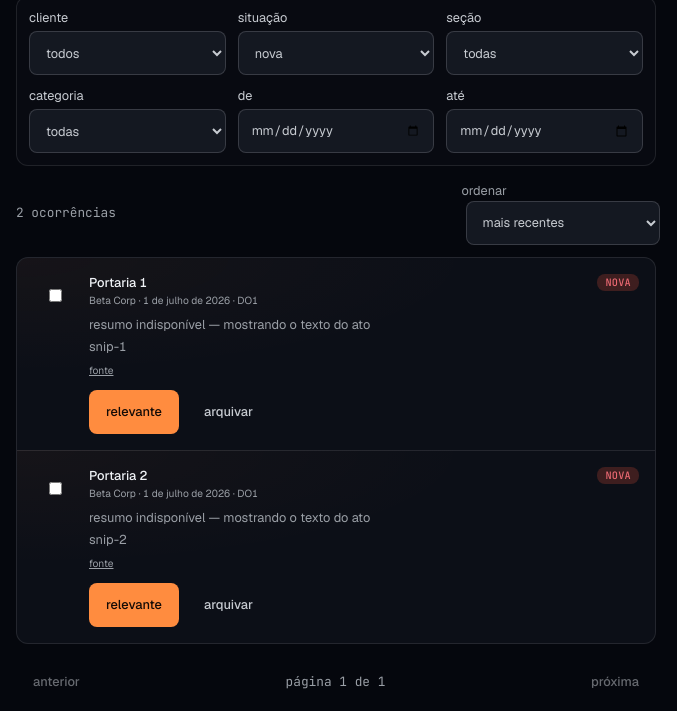
triaging a match out of the active filter lowers the count and the dial
This screenshot has width=677, height=711.
(page scrolled)
Expected: the text "snip-1" is shown, [89, 338, 127, 355]
Expected: the text "2 ocorrências" is shown, [16, 204, 116, 223]
One "relevante" button per card, so take the first.
Click the button "relevante" below "snip-1".
click(134, 412)  # box [89, 390, 179, 434]
(page scrolled)
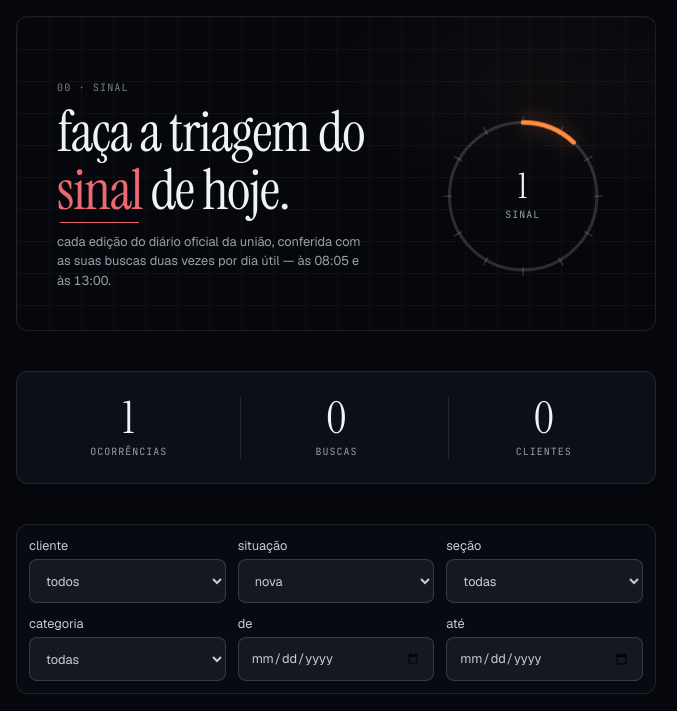
Result: the picture named "1 ocorrências acompanhadas" is shown at [431, 104, 615, 288]
